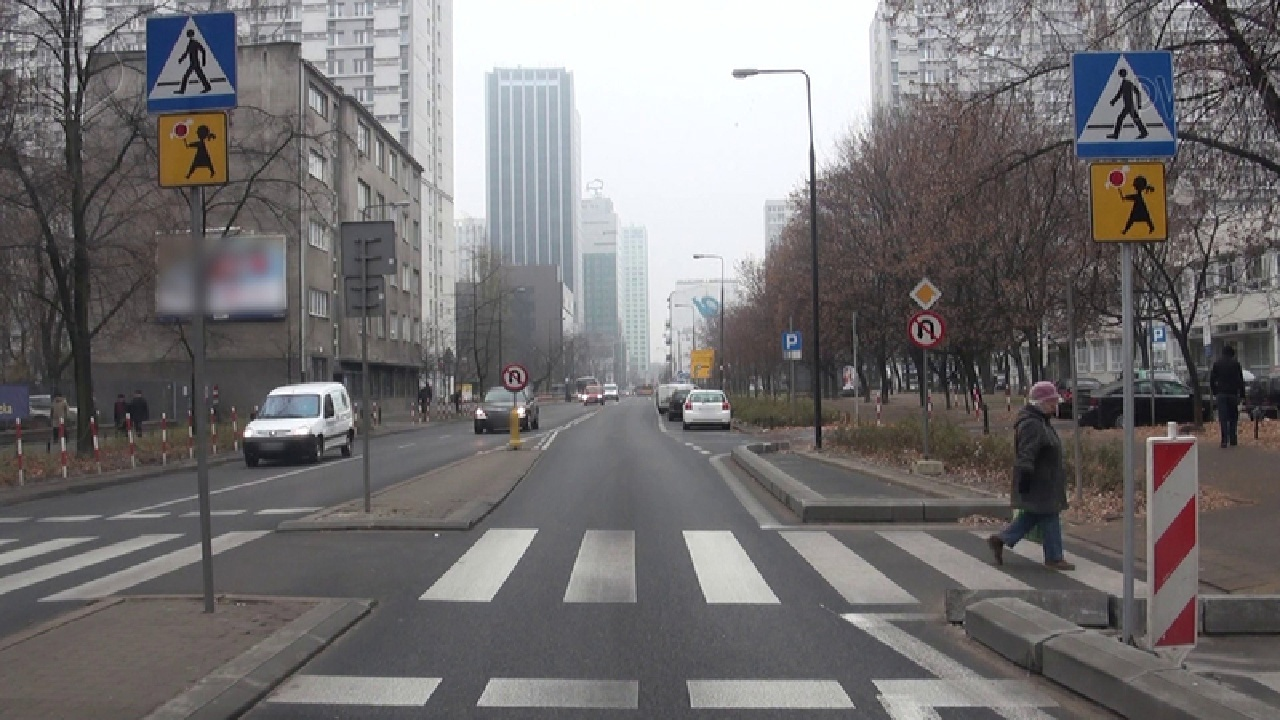B23: (907, 313, 946, 347), (501, 364, 528, 391)
D1: (908, 278, 943, 310)
D6: (1068, 52, 1179, 156), (143, 14, 237, 115)
